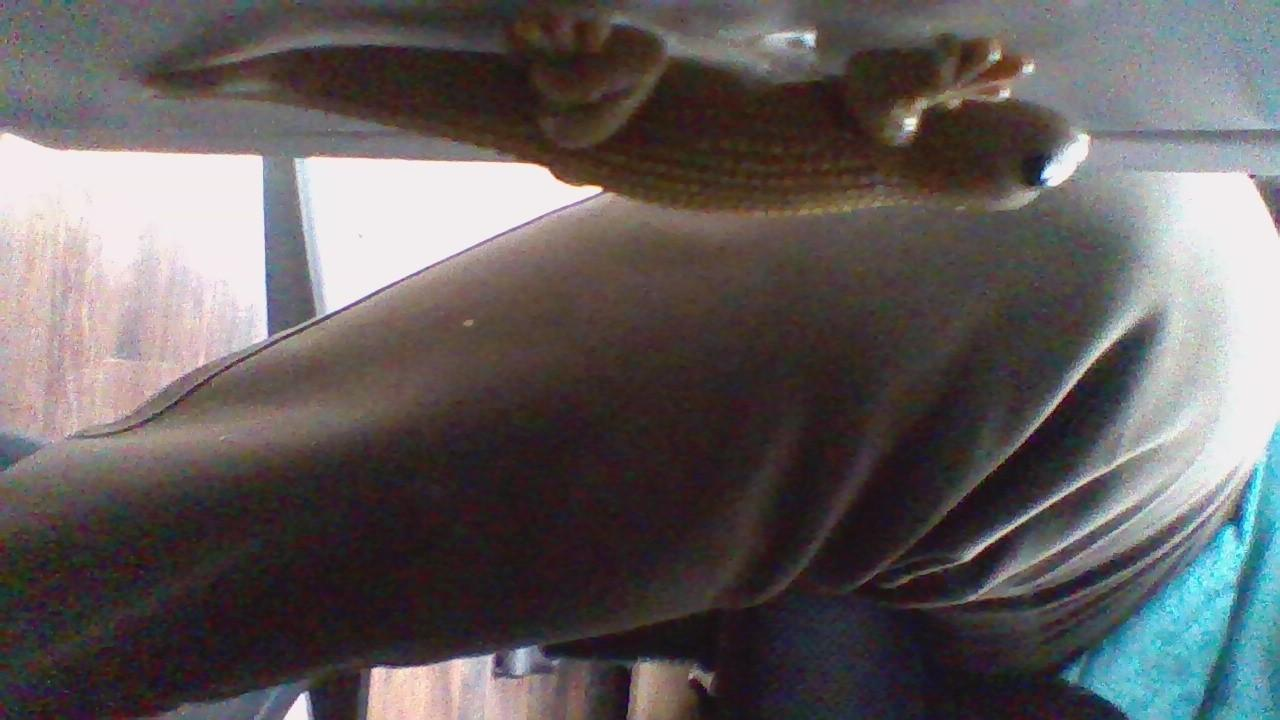lizard: (126, 2, 1090, 226)
